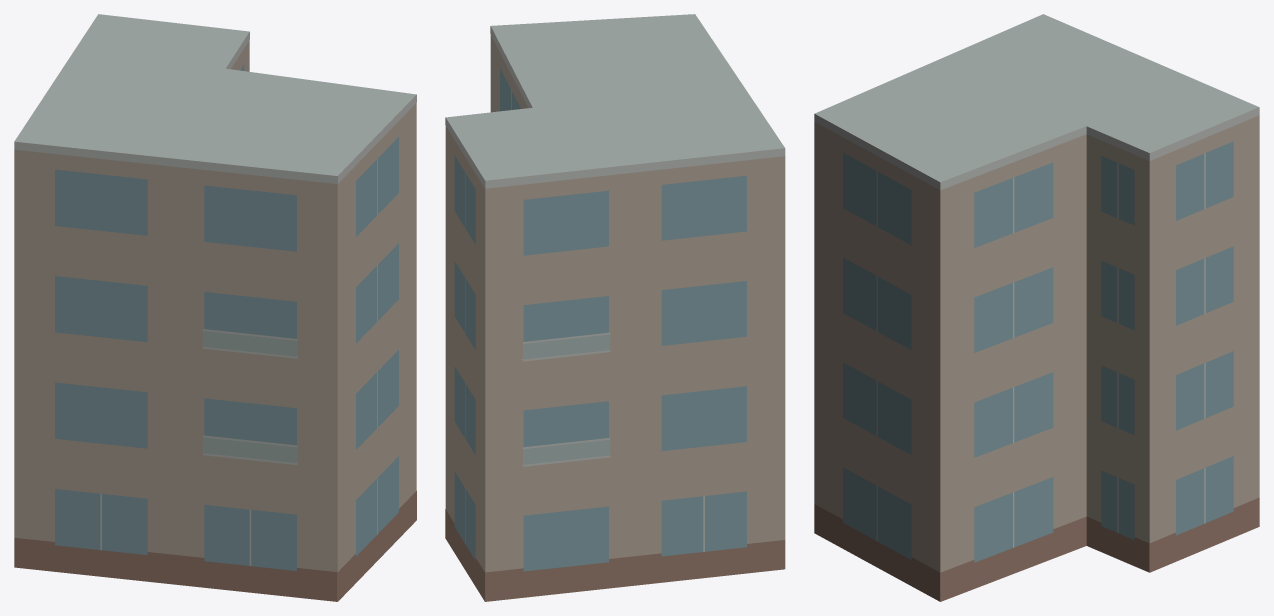
The model's file is survey-upis-32909129.glb.
The picture shows the model from 3 angles, left to right: view 1: azimuth 30°, elevation 25°; view 2: azimuth 150°, elevation 25°; view 3: azimuth 270°, elevation 25°; orthographic projection.
Visible parts, largest first — view 1: survey-upis-32909129.tmp; view 2: survey-upis-32909129.tmp; view 3: survey-upis-32909129.tmp.
Part boxes in pixels (x1,y1,x2,y2): survey-upis-32909129.tmp: [14, 14, 416, 601]; survey-upis-32909129.tmp: [445, 14, 785, 601]; survey-upis-32909129.tmp: [814, 14, 1259, 601].
Size of the model in its own units: 11.11 by 12.9 by 12.41.
